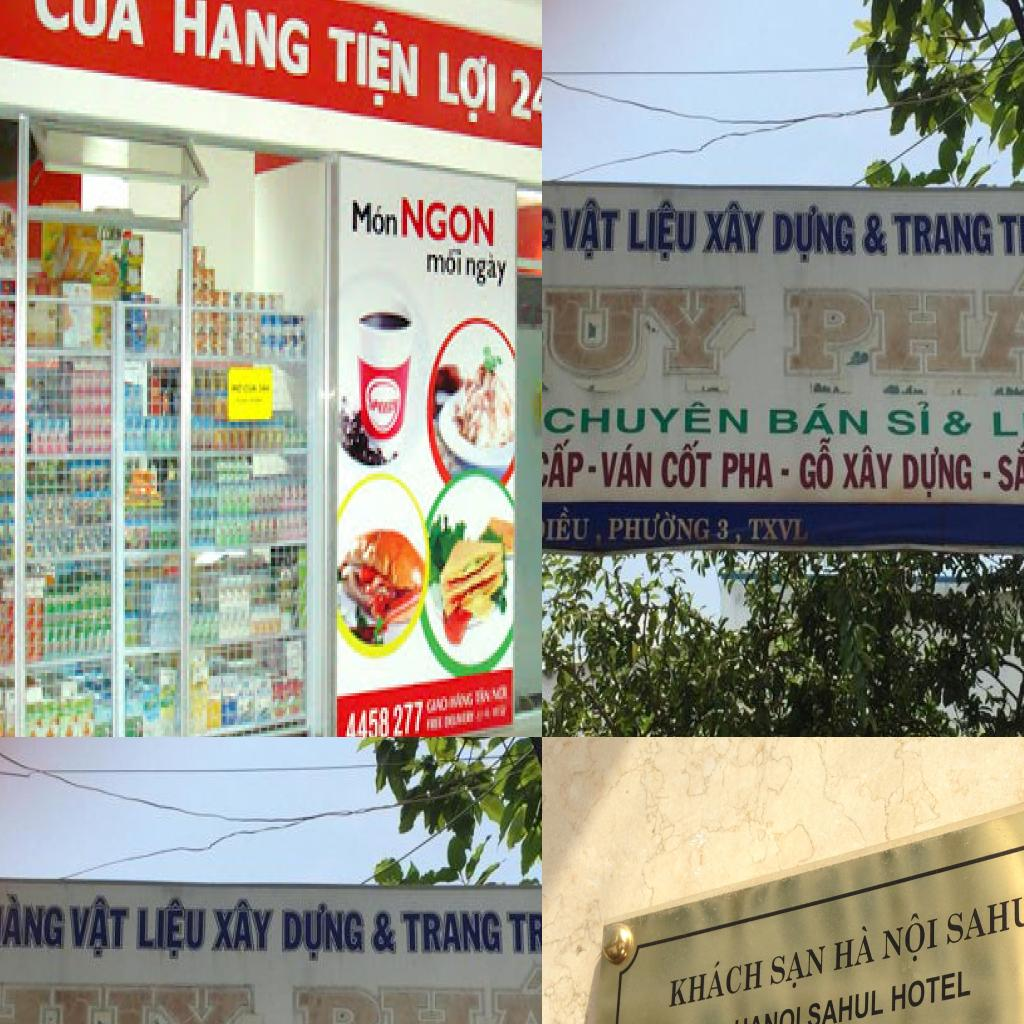text: (771, 264, 1024, 396), (542, 276, 755, 388), (280, 962, 542, 1024), (0, 974, 264, 1024), (173, 0, 311, 78), (327, 10, 421, 114), (544, 395, 752, 437), (888, 198, 996, 270), (398, 896, 506, 968), (772, 194, 856, 271), (280, 892, 364, 969), (623, 192, 704, 268), (132, 890, 213, 966), (33, 0, 147, 49), (401, 194, 497, 252), (941, 882, 1024, 948), (666, 952, 763, 1008), (698, 194, 766, 270), (208, 892, 276, 968), (439, 47, 499, 131), (557, 191, 619, 268), (66, 889, 128, 966), (0, 888, 67, 959), (604, 506, 712, 546), (901, 446, 976, 500), (888, 967, 972, 1015), (765, 403, 872, 440), (880, 906, 940, 969), (768, 939, 829, 997), (839, 442, 897, 499), (345, 699, 427, 737), (805, 986, 885, 1024), (596, 442, 656, 492), (659, 438, 714, 490), (719, 444, 777, 492), (542, 437, 588, 497), (882, 393, 935, 442), (855, 202, 892, 268), (364, 900, 401, 966), (507, 892, 542, 959), (831, 923, 875, 975), (741, 517, 812, 549), (798, 438, 838, 494), (509, 67, 542, 133), (542, 505, 593, 547), (465, 249, 511, 292), (353, 200, 401, 240), (998, 194, 1024, 261), (995, 438, 1024, 498), (986, 398, 1024, 441), (731, 1002, 802, 1024), (425, 246, 463, 281), (944, 402, 976, 440), (715, 510, 732, 546)
